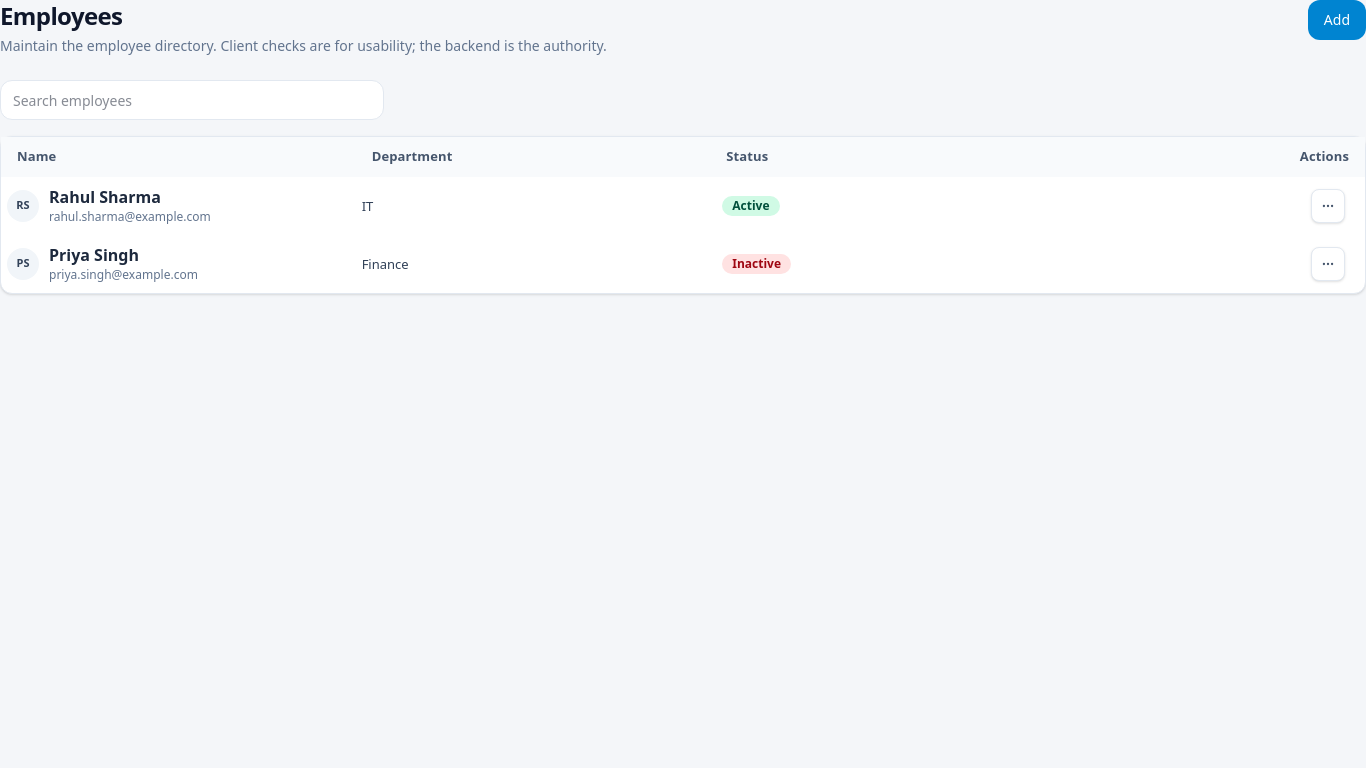
Test: EmployeesPage › shows the compact employee table and opens the action menu and details dialog
The width and height of the screenshot is (1366, 768).
Expected: the text "Rahul Sharma" is shown, 49,186 -> 161,208
Expected: the text "Name" is shown, 17,147 -> 56,165
Click the button named "actions for rahul sharma" at (1328, 206), box 1311,188 -> 1345,222
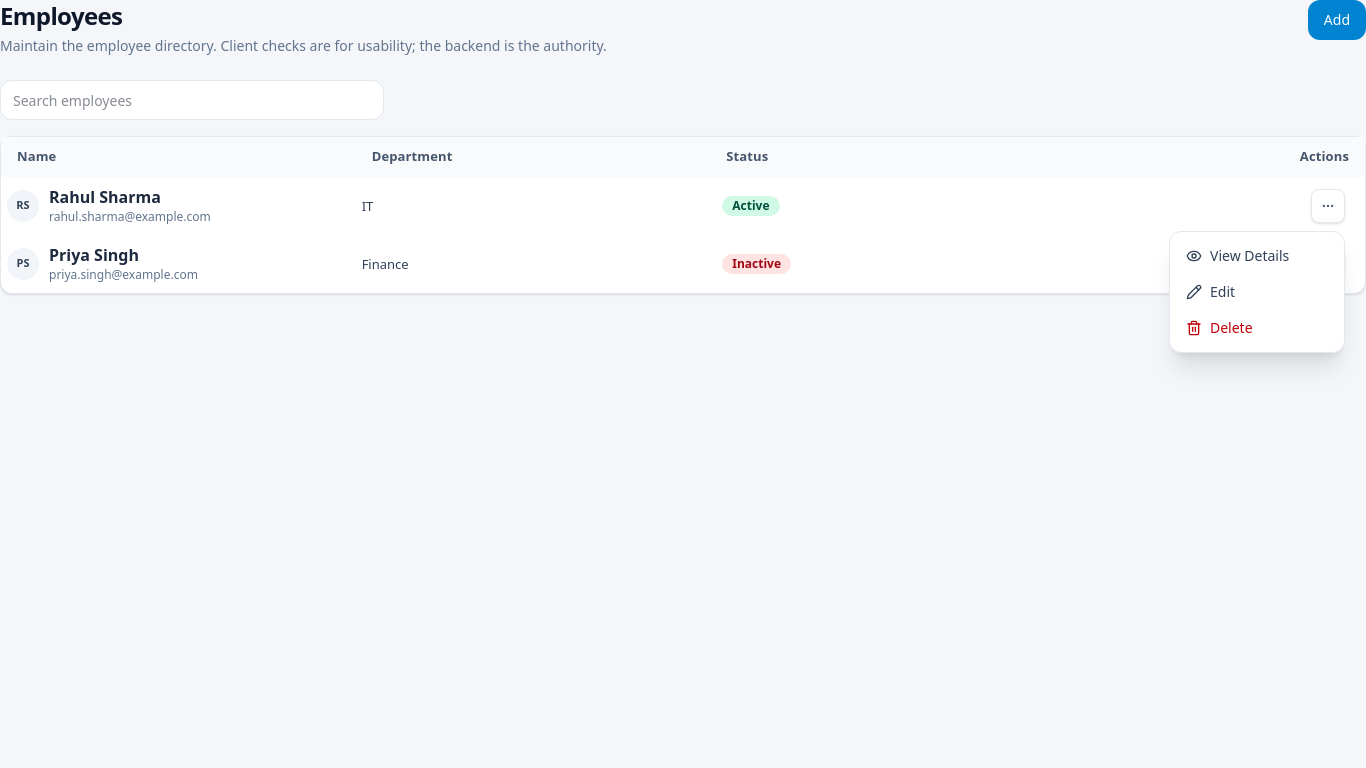
Result: the button "View Details" is shown
Click the button "View Details" at (1257, 256), box 1176,238 -> 1338,274
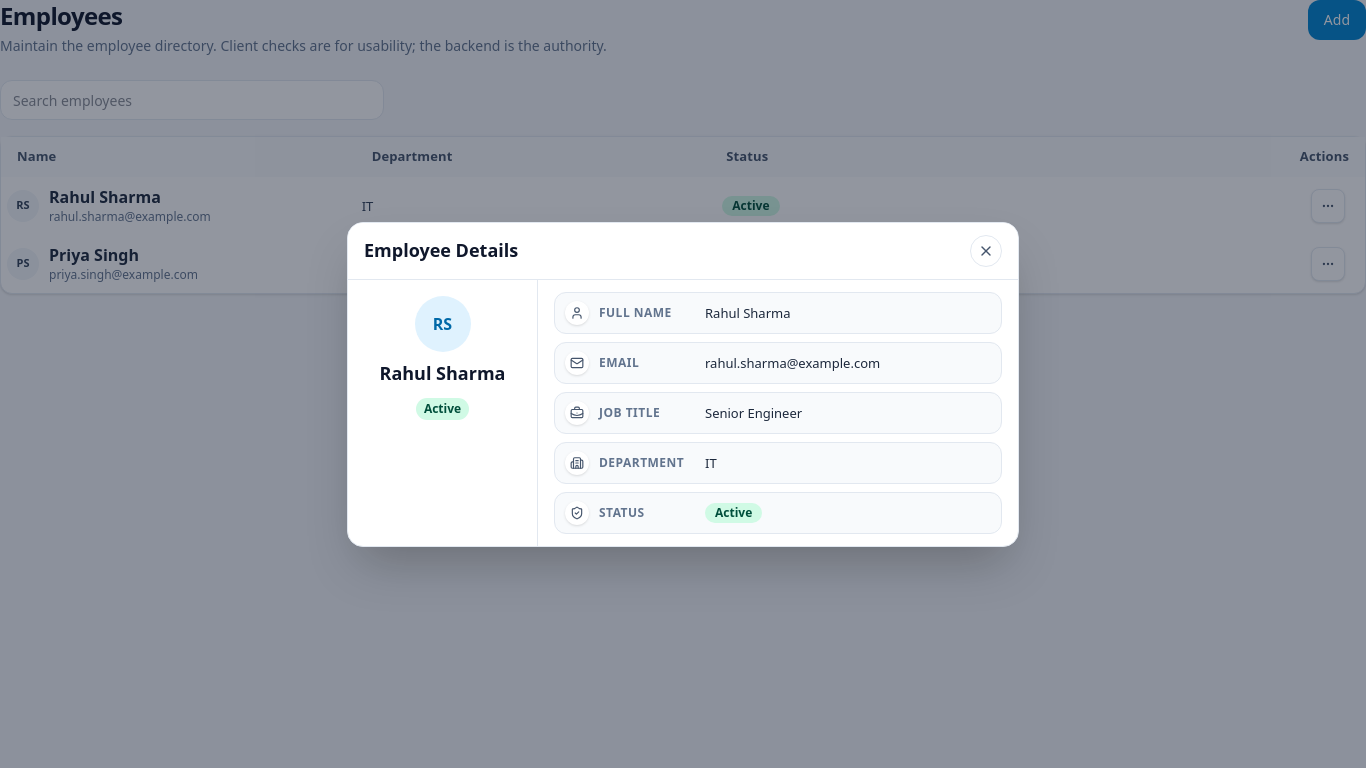
Expected: the 1st text "Rahul Sharma" is shown, 49,186 -> 161,208
Result: the text "Full Name" is shown at 599,304 -> 672,320
Result: the text "Senior Engineer" is shown at 705,404 -> 802,422
